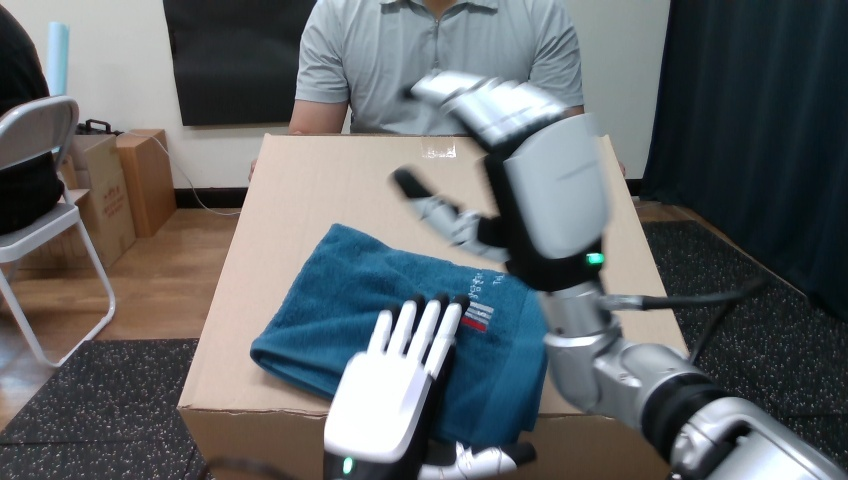left robot hand: (394, 71, 846, 478)
